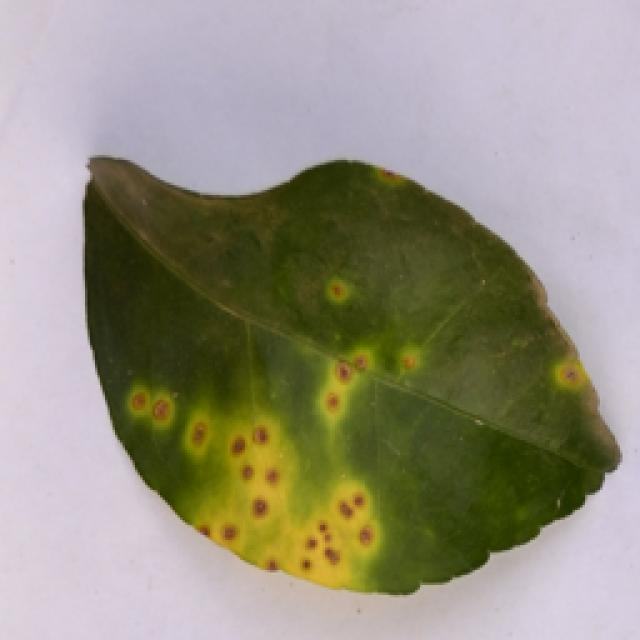canker: (77, 152, 600, 584)
